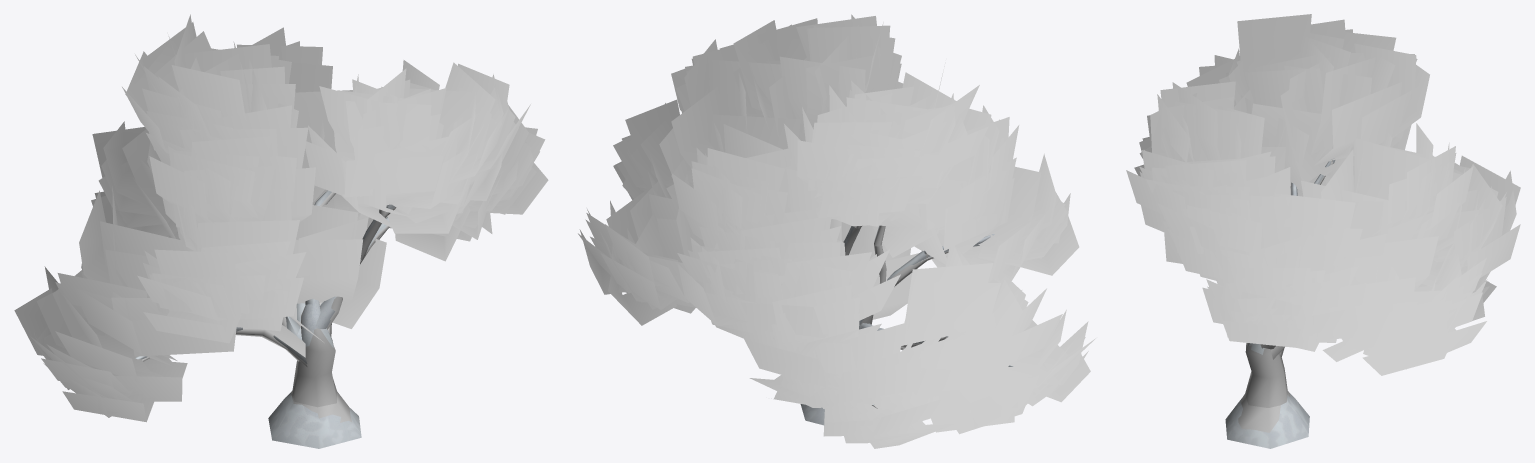
File: Tree_Medium_4_Snow.fbx
3 renders of one model, left to right at view 1: azimuth 30°, elevation 25°; view 2: azimuth 150°, elevation 25°; view 3: azimuth 270°, elevation 25°, orthographic. The views are drawn at different scales.
Visible parts, largest first — view 1: Tree_Medium_4_Snow_LOD0, Tree_Medium_4_Snow_Colider; view 2: Tree_Medium_4_Snow_LOD0; view 3: Tree_Medium_4_Snow_LOD0, Tree_Medium_4_Snow_Colider.
Part boxes in pixels (box(x1,y1,x2,y2)): Tree_Medium_4_Snow_LOD0: box(14, 14, 548, 448); Tree_Medium_4_Snow_Colider: box(292, 316, 336, 407); Tree_Medium_4_Snow_LOD0: box(578, 14, 1095, 448); Tree_Medium_4_Snow_LOD0: box(1126, 14, 1520, 448); Tree_Medium_4_Snow_Colider: box(1245, 343, 1287, 407).
Size of what is drawn, in the model's own units: 2429 by 1836 by 1805.
